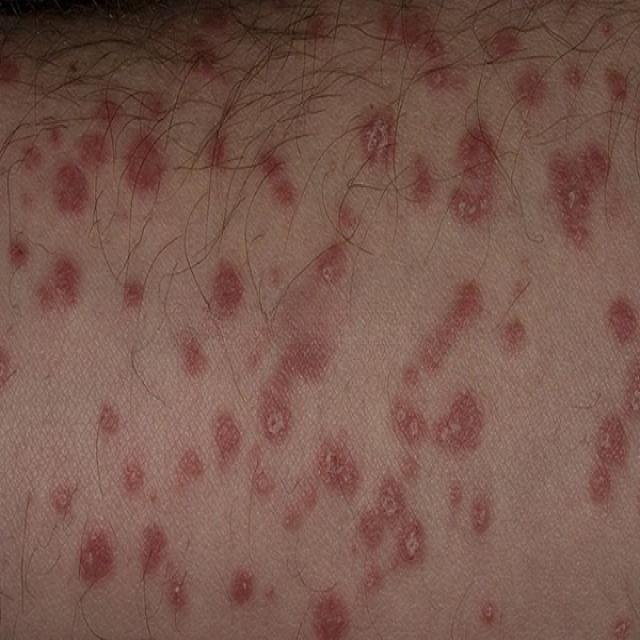Psoriasis Guttata: (0, 0, 639, 638)
